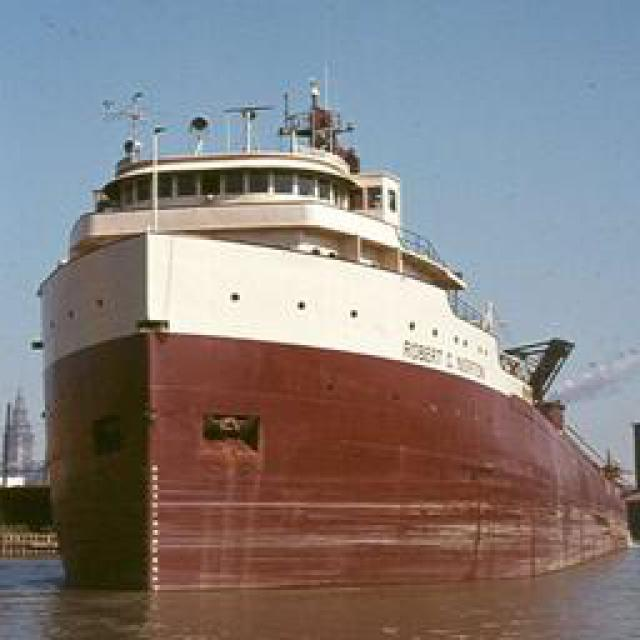Ship: (38, 69, 616, 609)
